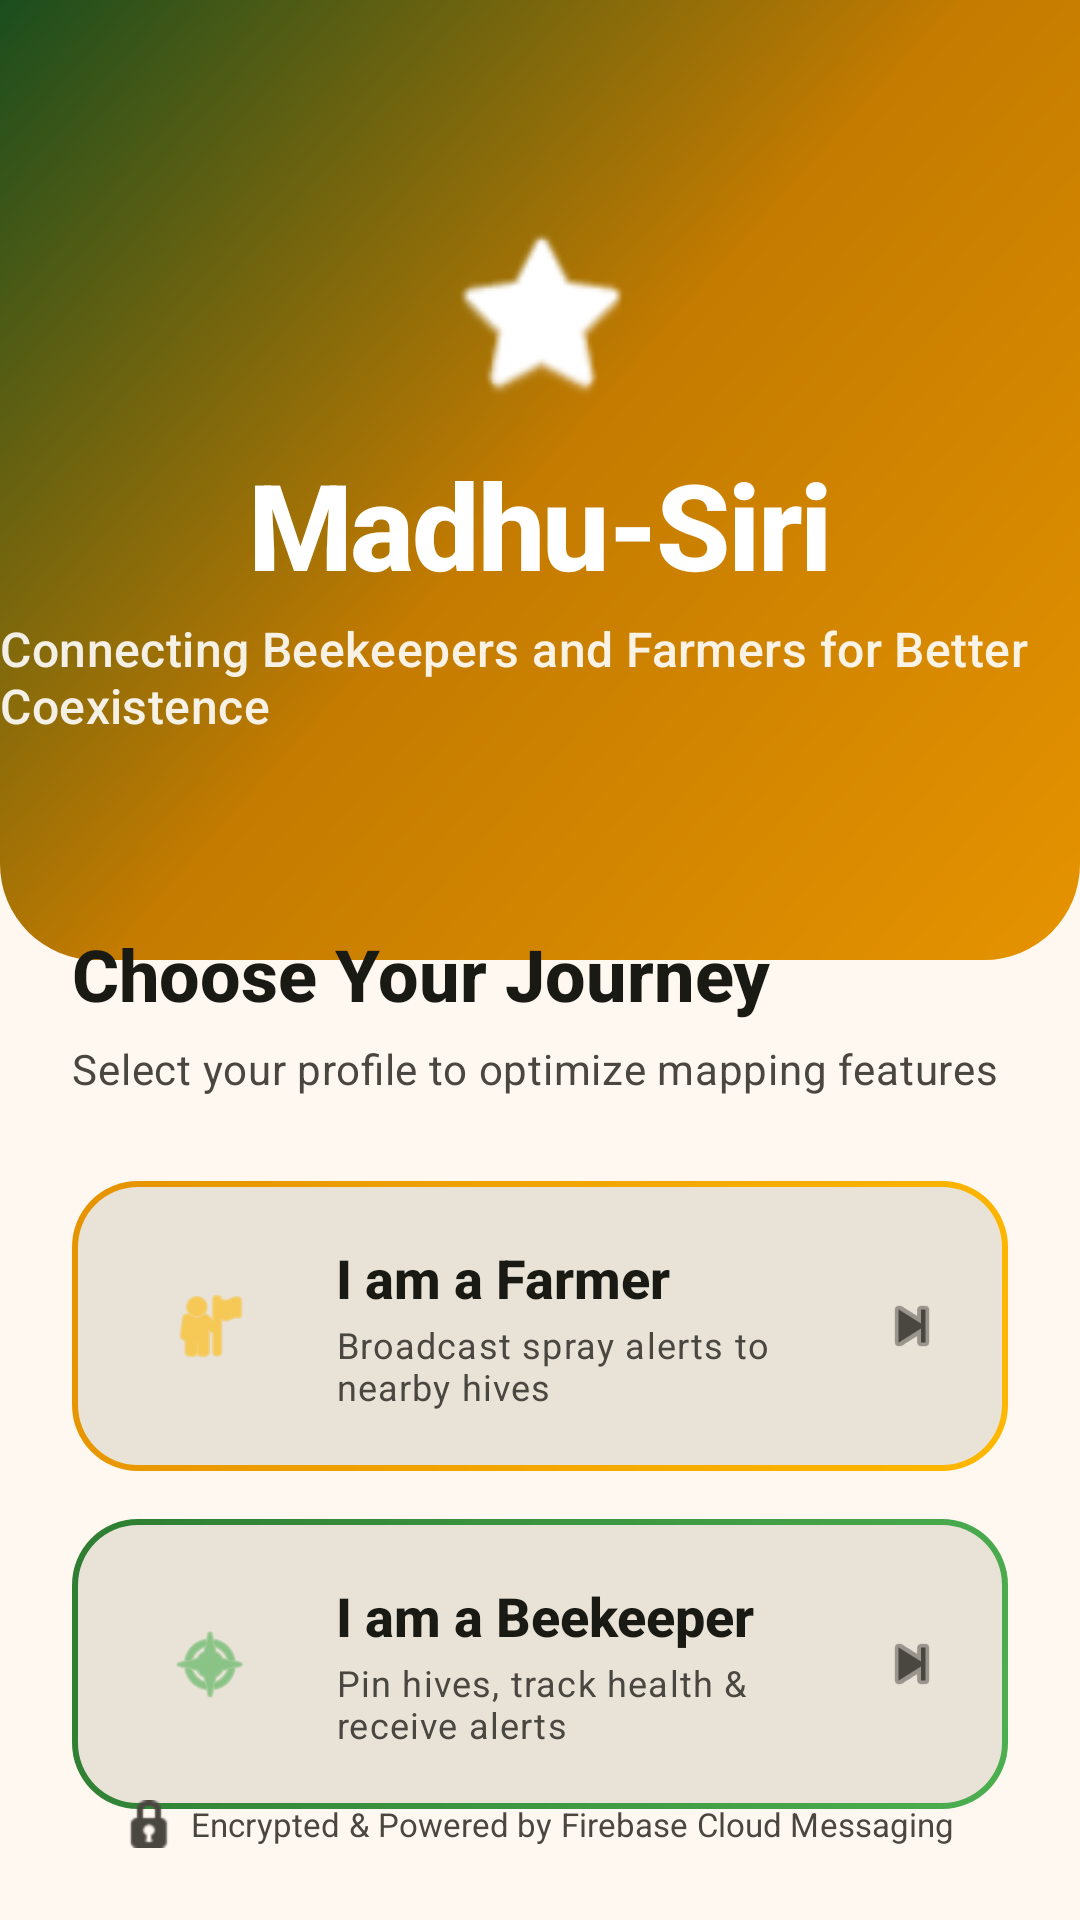

Icon click points for this 1080px×1920px phone screenshot, format point (x, y):
next: point (912, 1326), point (912, 1664)
secure: point (149, 1824)
star on: point (540, 312)
